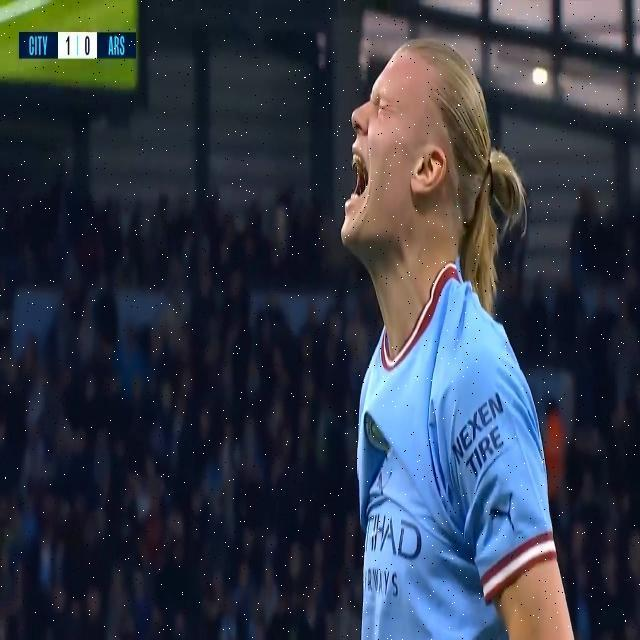player: (285, 14, 640, 640)
